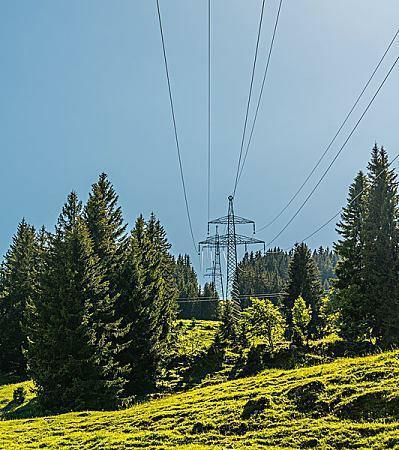power_tower: (191, 184, 270, 304)
